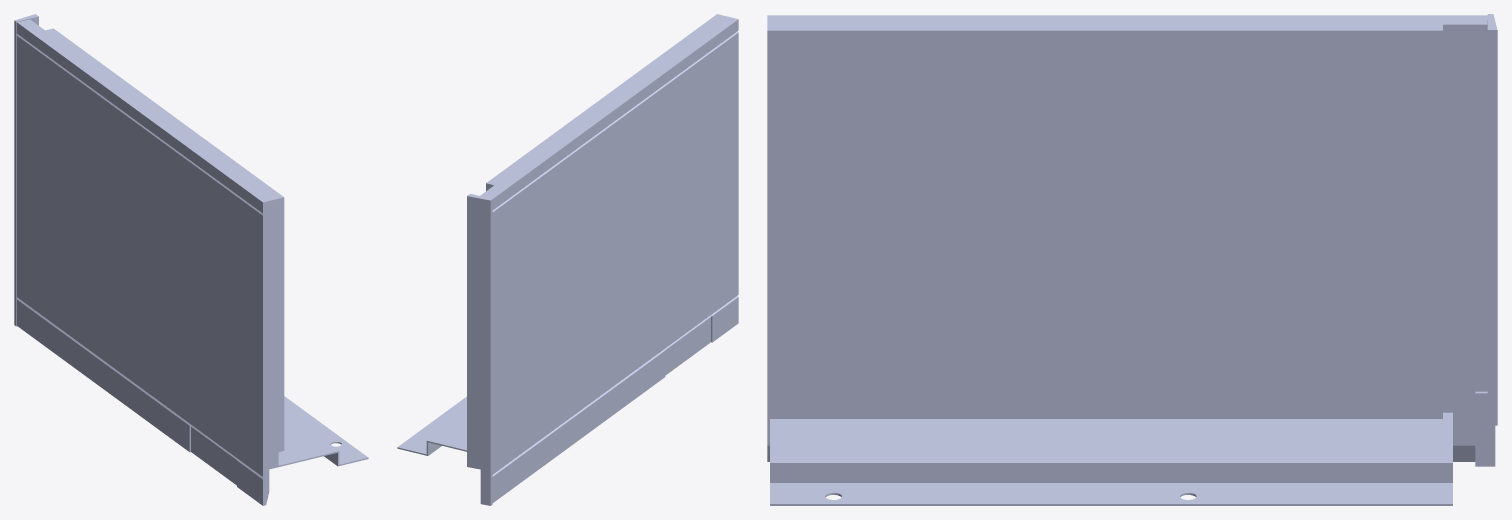
The model's file is lg-kava-C270-p.glb.
The picture shows the model from 3 angles, left to right: view 1: azimuth 30°, elevation 25°; view 2: azimuth 150°, elevation 25°; view 3: azimuth 270°, elevation 25°; orthographic projection. The views are drawn at different scales.
Visible parts, largest first — view 1: 47118801; view 2: 47118801; view 3: 47118801.
Boxes of the visible parts, x1,y1,x2,y2 form: 47118801: (14,14,368,505); 47118801: (397,14,738,505); 47118801: (767,14,1497,505).
Bounding box in the file's own units: 0.0653 × 0.1777 × 0.2635.
